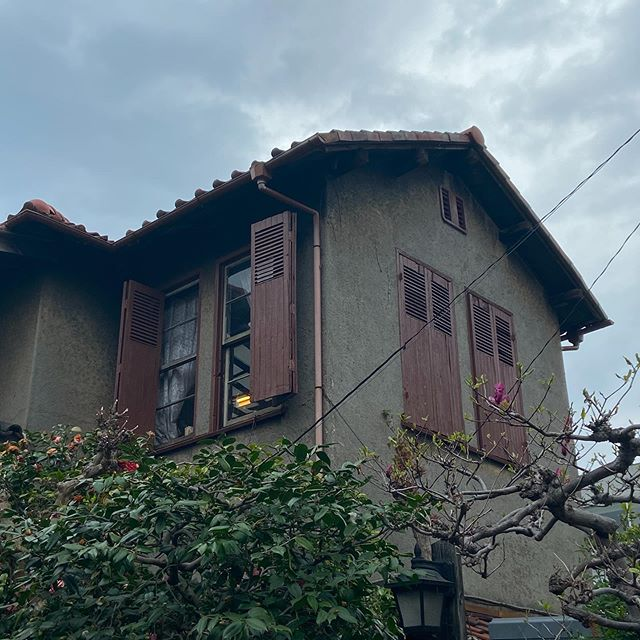building: (1, 138, 599, 640)
sky: (15, 1, 640, 199)
tree: (1, 437, 395, 640)
